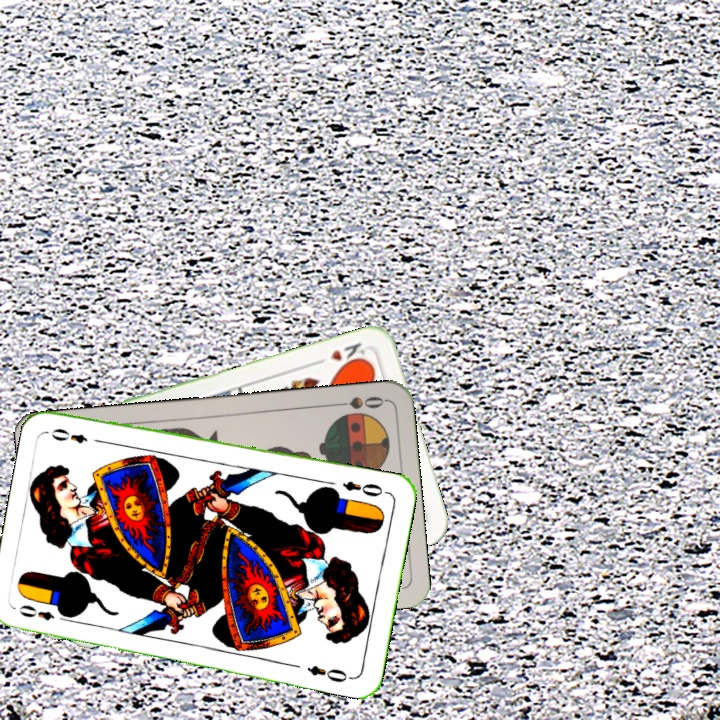EO: (14, 600, 72, 625), (338, 477, 390, 500)
HK: (326, 338, 368, 370)
SO: (328, 392, 387, 412)
